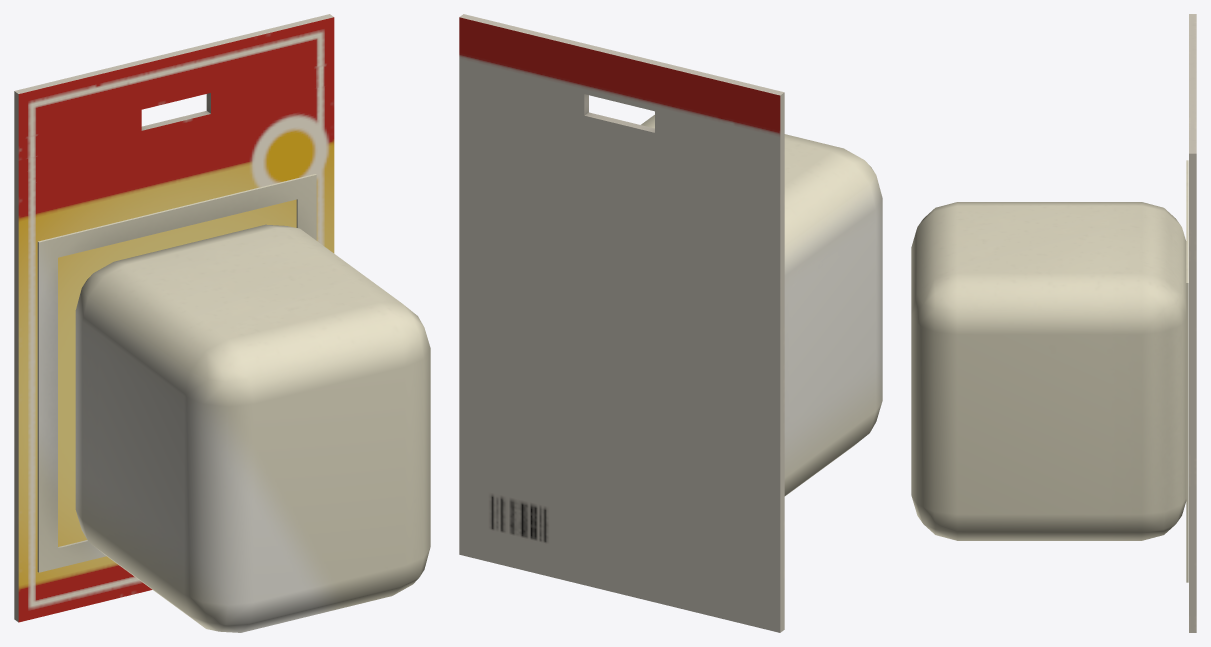
Rendered from Blister.fbx.
The picture shows the model from 3 angles, left to right: view 1: azimuth 30°, elevation 25°; view 2: azimuth 150°, elevation 25°; view 3: azimuth 270°, elevation 25°; orthographic projection. The views are drawn at different scales.
Parts seen in each view (by area): view 1: Blister_Bubble, Blister_Card; view 2: Blister_Card, Blister_Bubble; view 3: Blister_Bubble, Blister_Card.
Part boxes in pixels (x1,y1,x2,y2): Blister_Bubble: (37, 174, 430, 632); Blister_Card: (14, 14, 334, 622); Blister_Card: (459, 14, 784, 632); Blister_Bubble: (641, 115, 882, 496); Blister_Bubble: (911, 160, 1188, 582); Blister_Card: (1189, 14, 1196, 632).
Bounding box in the file's own units: 0.5 × 0.8 × 0.432.
2 materials, 2 textured.
